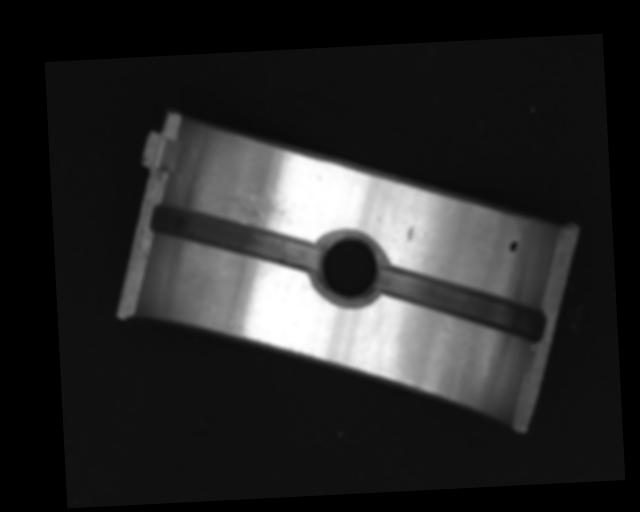blot: (508, 238, 519, 253)
bruise: (406, 226, 413, 241)
gap: (376, 260, 547, 347), (148, 195, 320, 278)
hole: (313, 231, 388, 306)
scratch: (204, 177, 298, 230)
